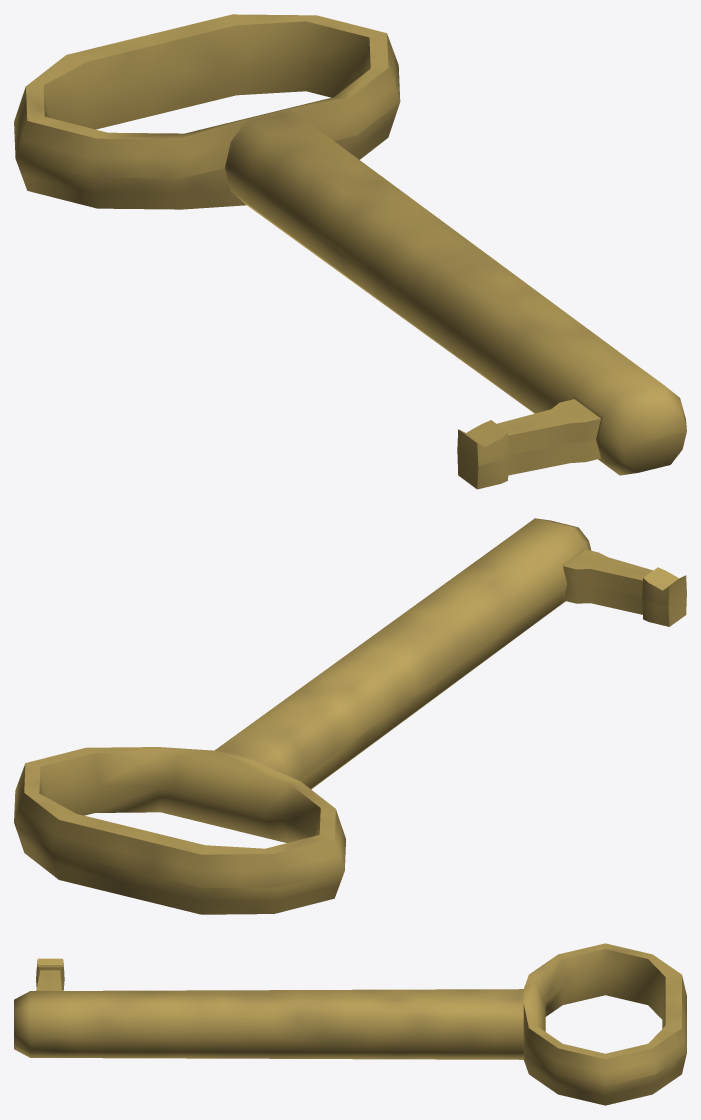
The model's file is key alt.fbx.
The picture shows the model from 3 angles, top to bottom: view 1: azimuth 30°, elevation 25°; view 2: azimuth 150°, elevation 25°; view 3: azimuth 270°, elevation 25°; orthographic projection. The views are drawn at different scales.
Visible parts, largest first — view 1: Key.001; view 2: Key.001; view 3: Key.001.
Boxes of the visible parts, bbox=[...] form: Key.001: bbox=[14, 14, 686, 489]; Key.001: bbox=[14, 518, 686, 914]; Key.001: bbox=[14, 943, 686, 1105].
Size of the model in its own units: 39.53 by 8.42 by 90.92.
1 material, 1 textured.
